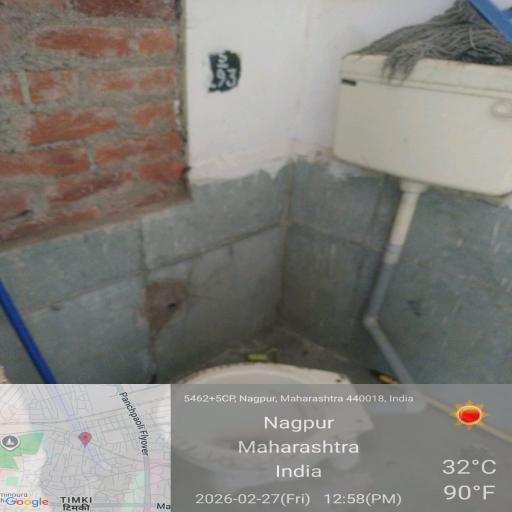clean_western: (40, 358, 412, 502)
dirty_floor: (50, 50, 283, 358)
partial_dirty_floor: (325, 5, 512, 371)
